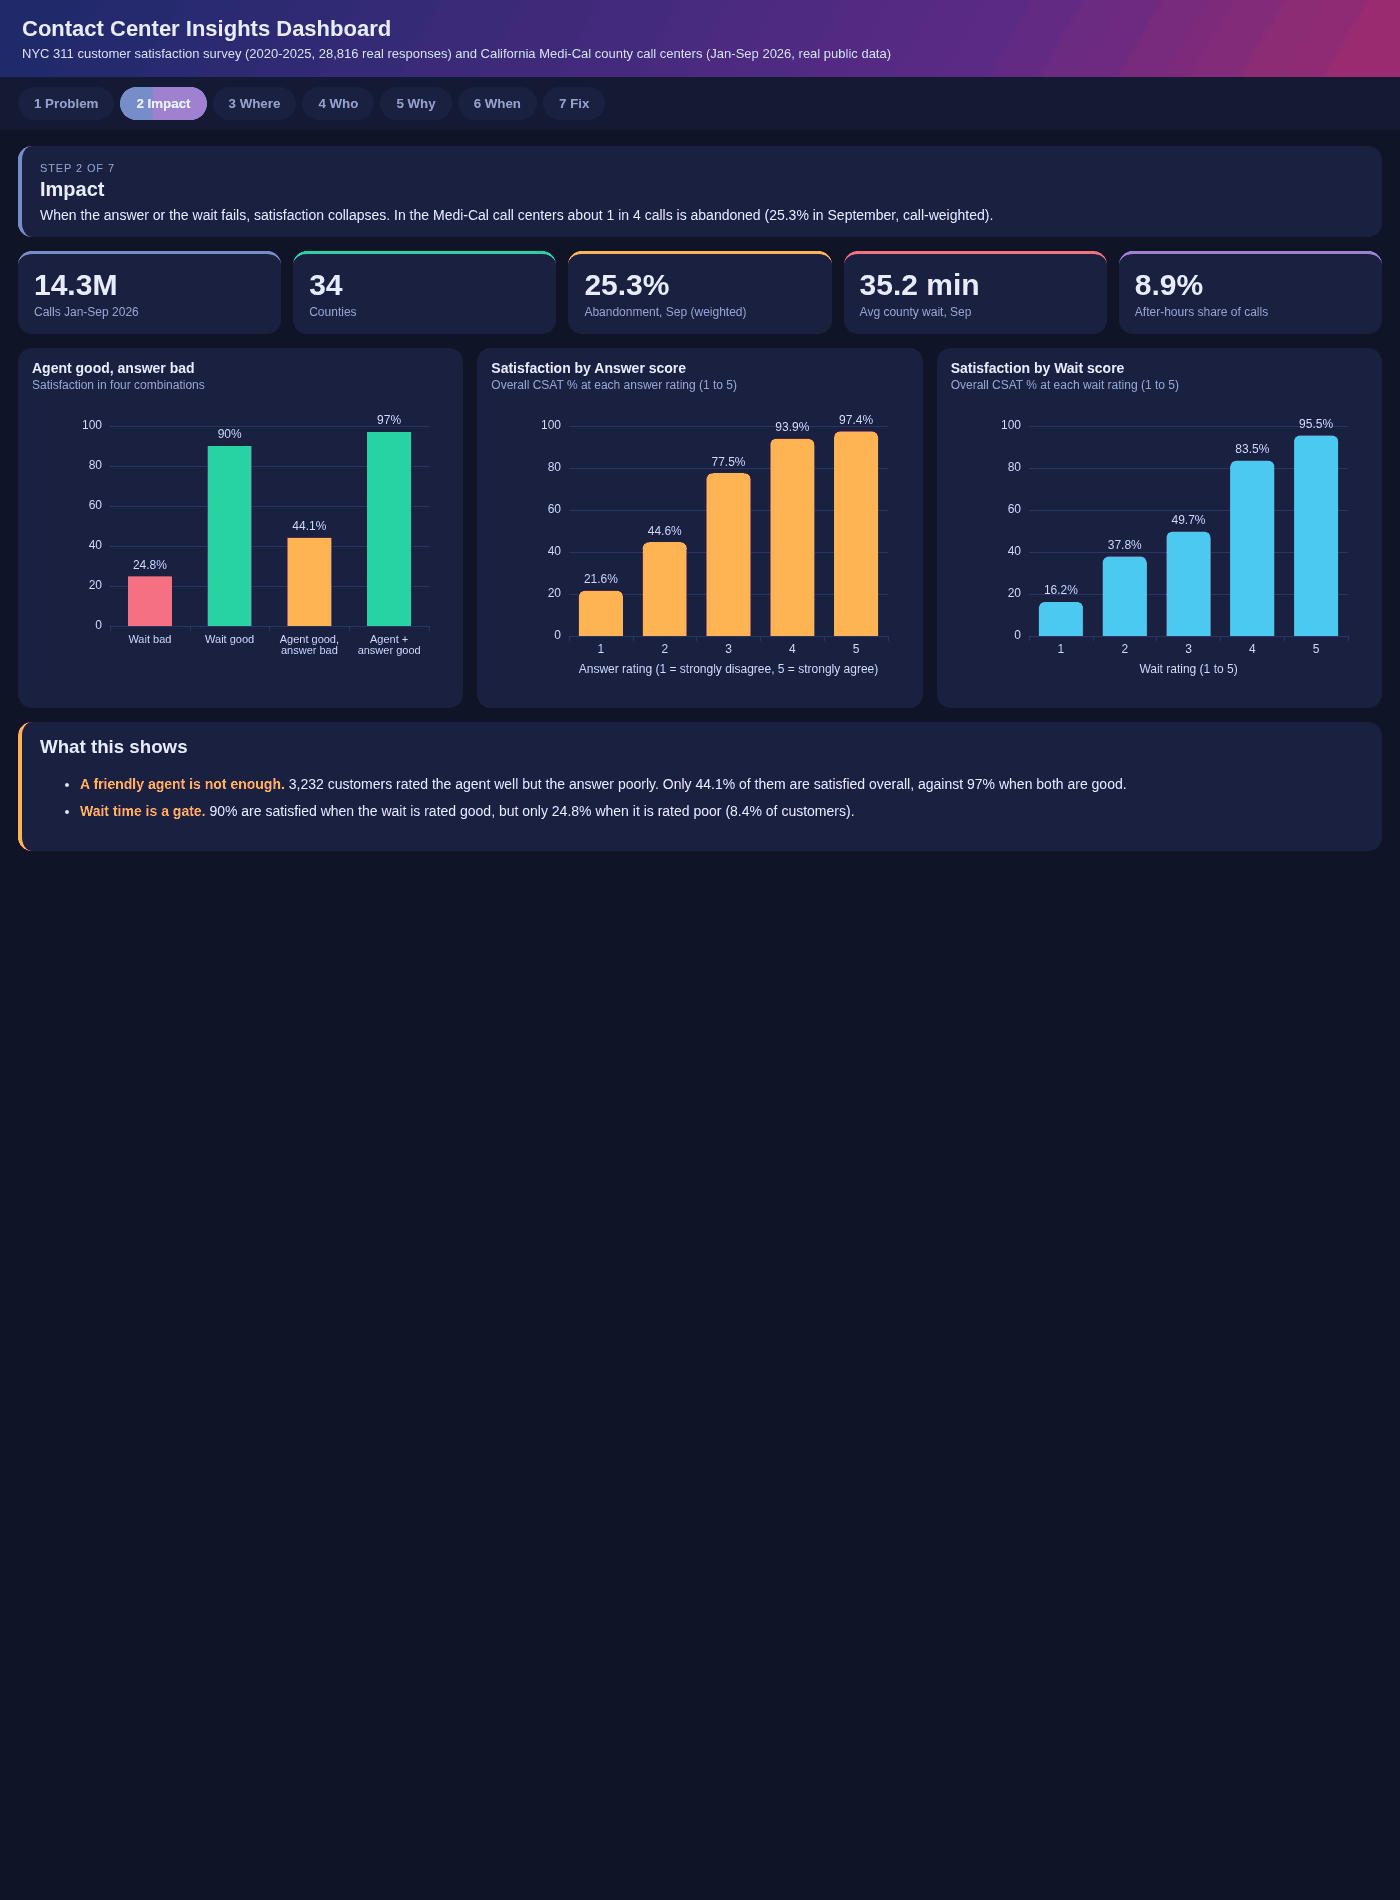

What the dashboard file says about the page in this screenshot:
{"tool":"powerbi","page":{"name":"2 Impact","canvas":[1280,720],"ordinal":1},"visuals":[{"type":"card","fields":{"Values":["Survey.Text S2"]},"box":[20,10,1240,80],"z":0},{"type":"clusteredColumnChart","fields":{"Category":["Survey.Answer Score"],"Y":["Survey.CSAT %"]},"box":[20,210,400,500],"z":6000},{"type":"clusteredColumnChart","fields":{"Category":["Survey.Wait Score"],"Y":["Survey.CSAT %"]},"box":[440,210,400,500],"z":7000},{"type":"clusteredColumnChart","fields":{"Category":["Survey.Agent Service Score"],"Y":["Survey.CSAT %"]},"box":[860,210,400,500],"z":8000}]}

Visuals, with their boxes on the page's 1280x720 design canvas (x1, y1, x2, y2). These are canvas units, not pixel positions in the 1400x1900 screenshot, which may show the page scaled, cropped or inside an application window:
card - Survey.Text S2: 20,10,1260,90
clusteredColumnChart - Survey.Answer Score x Survey.CSAT %: 20,210,420,710
clusteredColumnChart - Survey.Wait Score x Survey.CSAT %: 440,210,840,710
clusteredColumnChart - Survey.Agent Service Score x Survey.CSAT %: 860,210,1260,710
